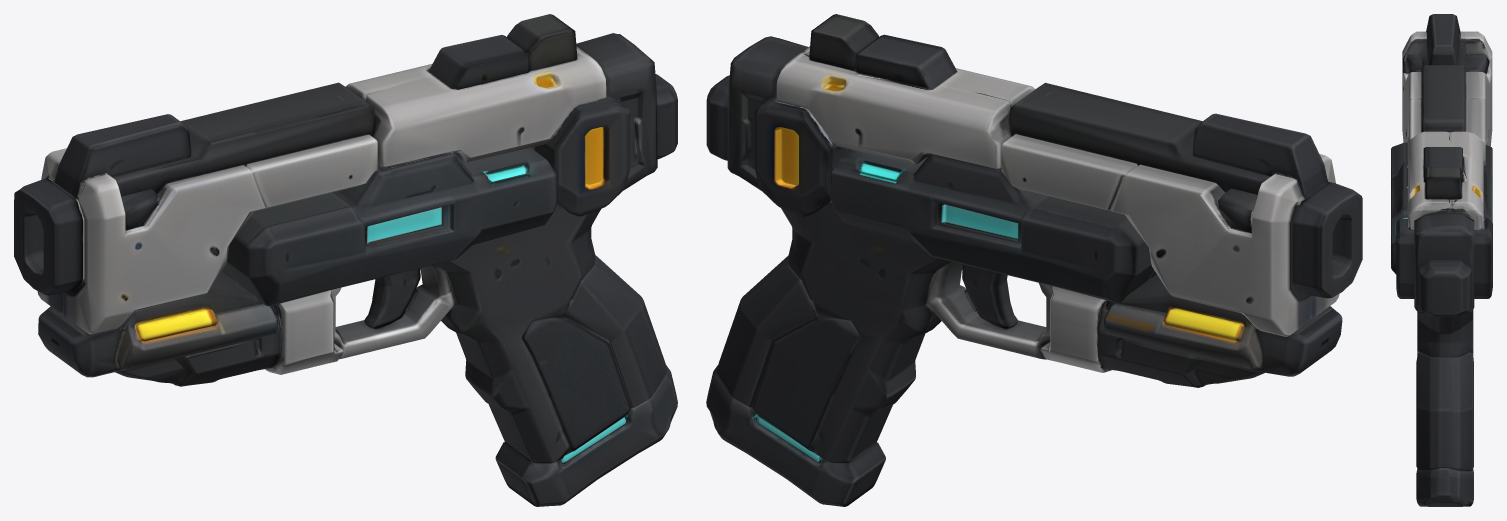
File: futuristic_pistol_3d_model.fbx
3 renders of one model, left to right at view 1: azimuth 30°, elevation 25°; view 2: azimuth 150°, elevation 25°; view 3: azimuth 270°, elevation 25°, orthographic. The views are drawn at different scales.
Parts seen in each view (by area): view 1: tripo_node_c08cd661; view 2: tripo_node_c08cd661; view 3: tripo_node_c08cd661.
Part boxes in pixels (x1,y1,x2,y2): tripo_node_c08cd661: (14,14,677,506); tripo_node_c08cd661: (706,14,1362,506); tripo_node_c08cd661: (1391,14,1492,506).
Bounding box in the file's own units: 0.9995 × 0.7036 × 0.1963.
